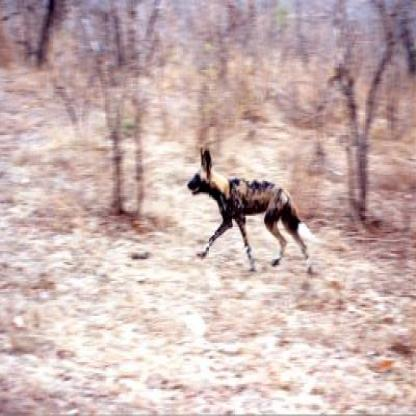African_hunting_dog: (184, 143, 316, 273)
